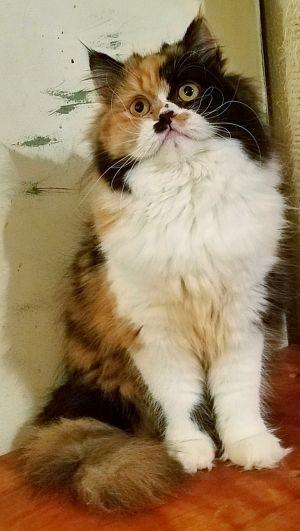persian: (68, 12, 265, 192)
